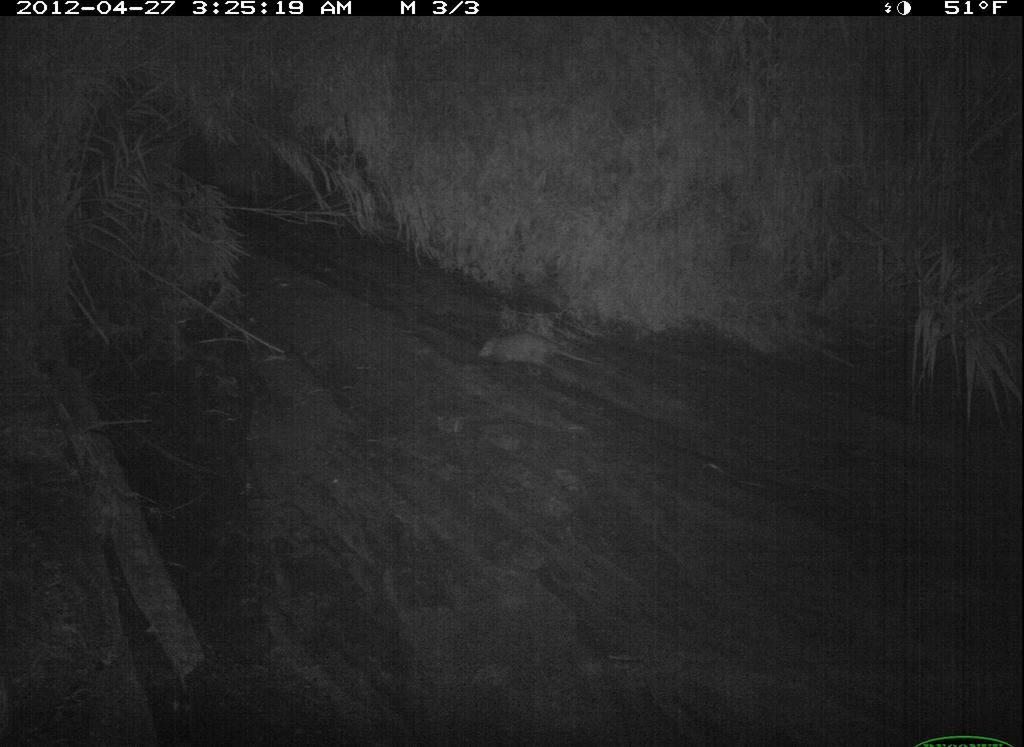opossum: (948, 658, 1024, 746)
